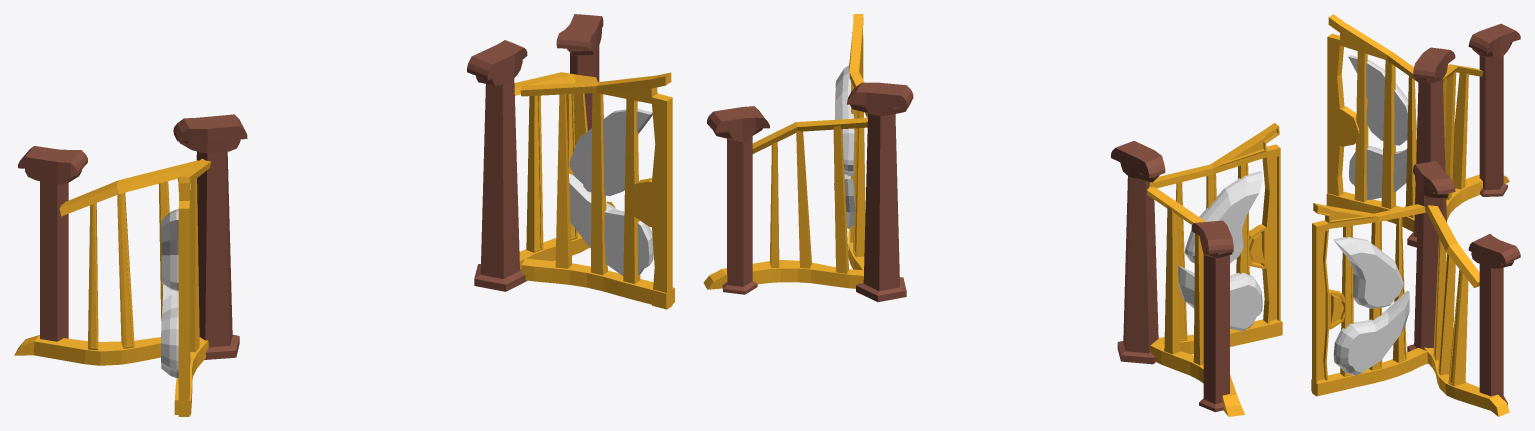
Rendered from GateNoAnim.fbx.
3 views of the same model, side by side, from view 1: azimuth 30°, elevation 25°; view 2: azimuth 150°, elevation 25°; view 3: azimuth 270°, elevation 25° (orthographic). The views are drawn at different scales.
Parts seen in each view (by area): view 1: Gate, Gate_Right, Gate_Left; view 2: Gate, Gate_Left, Gate_Right; view 3: Gate, Gate_Right, Gate_Left.
Part boxes in pixels (<box>): Gate: <box>14,14,615,365</box>; Gate_Right: <box>520,72,674,309</box>; Gate_Left: <box>161,158,211,416</box>; Gate: <box>703,82,1244,416</box>; Gate_Left: <box>1149,123,1282,354</box>; Gate_Right: <box>834,14,867,270</box>; Gate: <box>1407,23,1520,416</box>; Gate_Right: <box>1311,203,1427,396</box>; Gate_Left: <box>1326,14,1418,231</box>.
Bounding box in the file's own units: 2692 × 995 × 993.
